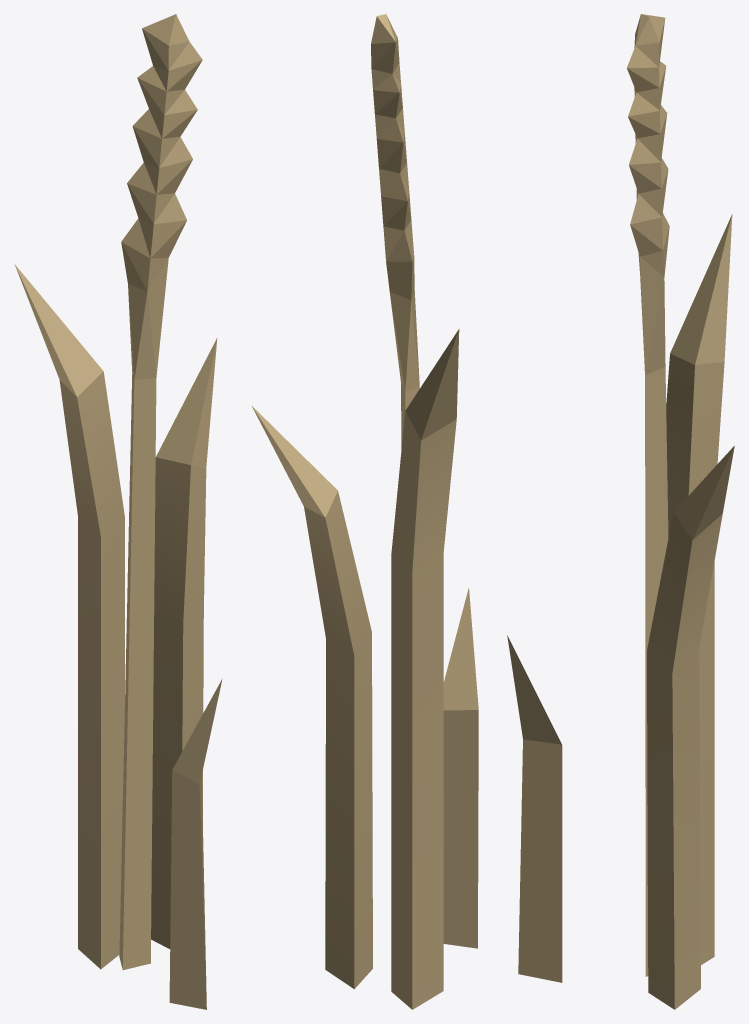
File: wheat_plant.glb
3 views of the same model, side by side, from view 1: azimuth 30°, elevation 25°; view 2: azimuth 150°, elevation 25°; view 3: azimuth 270°, elevation 25° (orthographic). The views are drawn at different scales.
Parts seen in each view (by area): view 1: SM_Prop_Plant_Wheat_01; view 2: SM_Prop_Plant_Wheat_01; view 3: SM_Prop_Plant_Wheat_01.
Boxes of the visible parts, x1,y1,x2,y2 form: SM_Prop_Plant_Wheat_01: [14, 14, 222, 1009]; SM_Prop_Plant_Wheat_01: [251, 14, 478, 1009]; SM_Prop_Plant_Wheat_01: [507, 14, 734, 1009].
Size of the model in its own units: 0.1922 by 0.8472 by 0.1795.
1 material, 1 textured.
